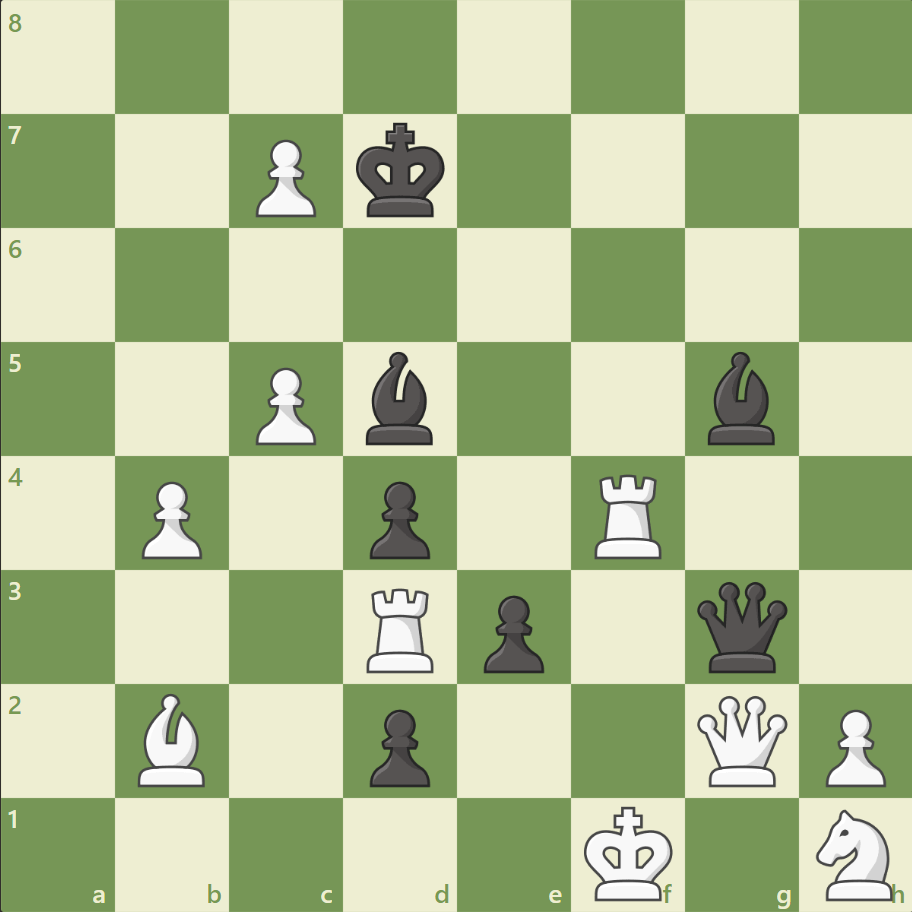B: (131, 687, 215, 790)
K: (579, 798, 679, 906)
N: (806, 802, 903, 904)
P: (247, 132, 322, 223), (247, 359, 322, 450), (133, 473, 208, 564), (815, 700, 889, 791)
Q: (691, 690, 790, 789)
R: (587, 466, 670, 563), (360, 579, 442, 676)
b: (358, 347, 442, 449), (698, 347, 782, 449)
k: (351, 117, 451, 225)
p: (474, 586, 549, 677), (361, 473, 435, 564), (361, 700, 435, 791)
q: (691, 576, 790, 676)
